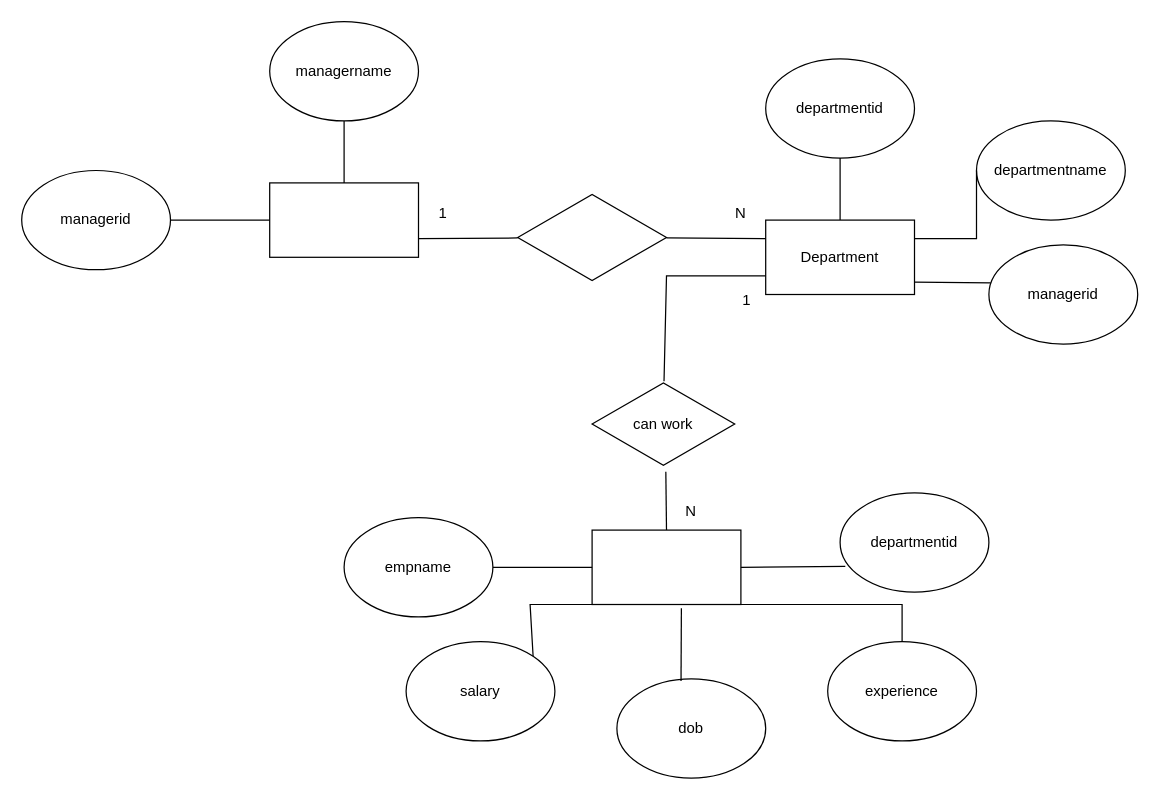
The diagram is 1159 pixels wide and 800 high, and some of its shapes have lost their labels. The centre of each missing label's shape, as x and y in pixels:
"Employee" belongs at (x=666, y=566).
"Manager" belongs at (x=343, y=219).
"manages" belongs at (x=591, y=237).
